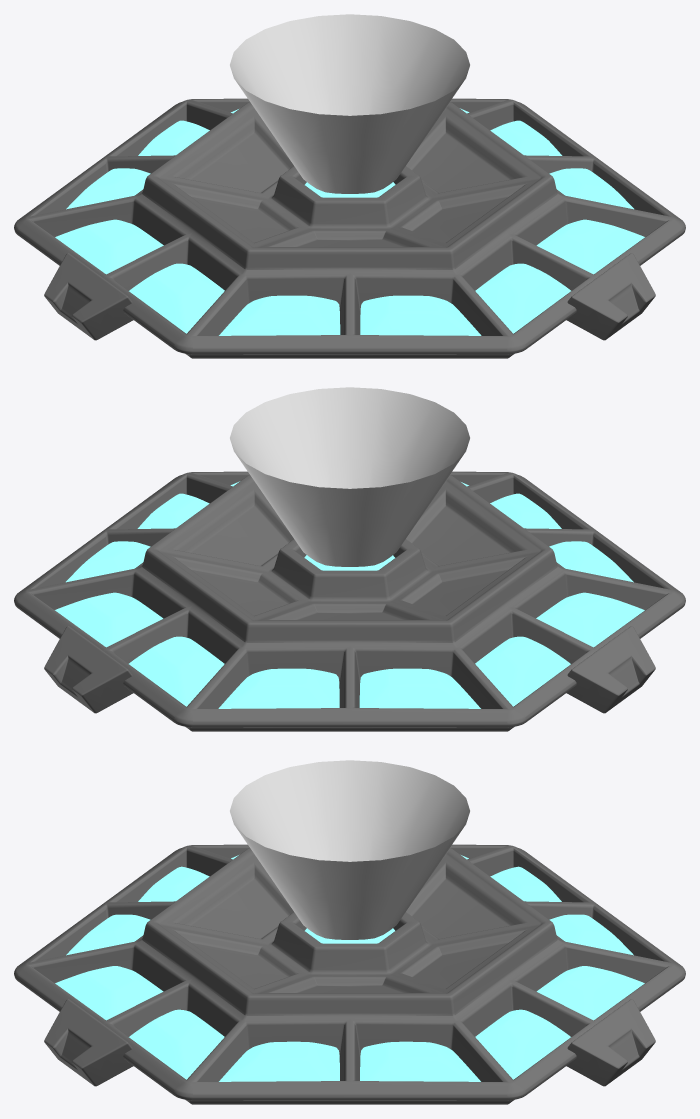
The model's file is MD_SpawnPoint_00.fbx.
3 views of the same model, one above another, from view 1: azimuth 30°, elevation 25°; view 2: azimuth 150°, elevation 25°; view 3: azimuth 270°, elevation 25° (orthographic).
Parts seen in each view (by area): view 1: Base, Glow, Light; view 2: Base, Glow, Light; view 3: Base, Glow, Light.
Part boxes in pixels (x1,y1,x2,y2): Base: (14,98,685,358); Glow: (230,14,469,193); Light: (55,108,644,335); Base: (14,471,685,731); Glow: (230,387,469,566); Light: (55,481,644,708); Base: (14,844,685,1104); Glow: (230,760,469,939); Light: (55,855,644,1081).
Bounding box in the file's own units: 182 × 62.62 × 195.
